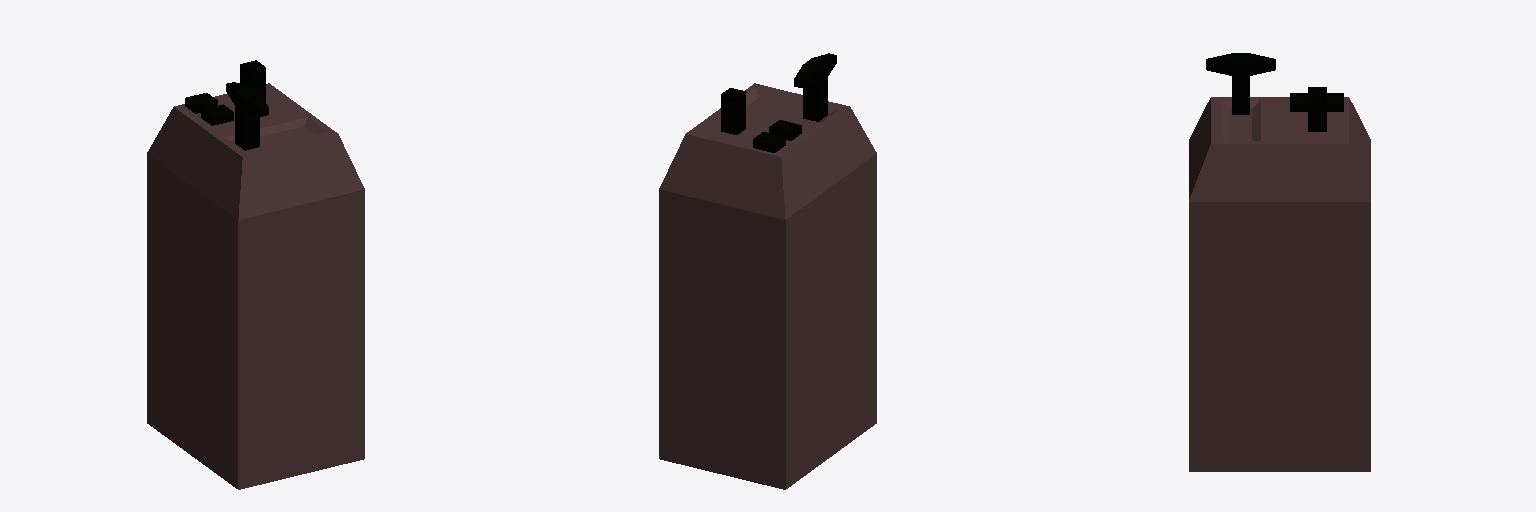
The model's file is control_box.obj.
3 views of the same model, side by side, from view 1: azimuth 30°, elevation 25°; view 2: azimuth 150°, elevation 25°; view 3: azimuth 270°, elevation 25° (orthographic).
Visible parts, largest first — view 1: control_box; view 2: control_box; view 3: control_box.
Boxes of the visible parts, <box> form: control_box: <box>147,60,364,489</box>; control_box: <box>659,53,876,489</box>; control_box: <box>1189,53,1370,471</box>.
Size of the model in its own units: 0.3724 by 1.04 by 0.4658.